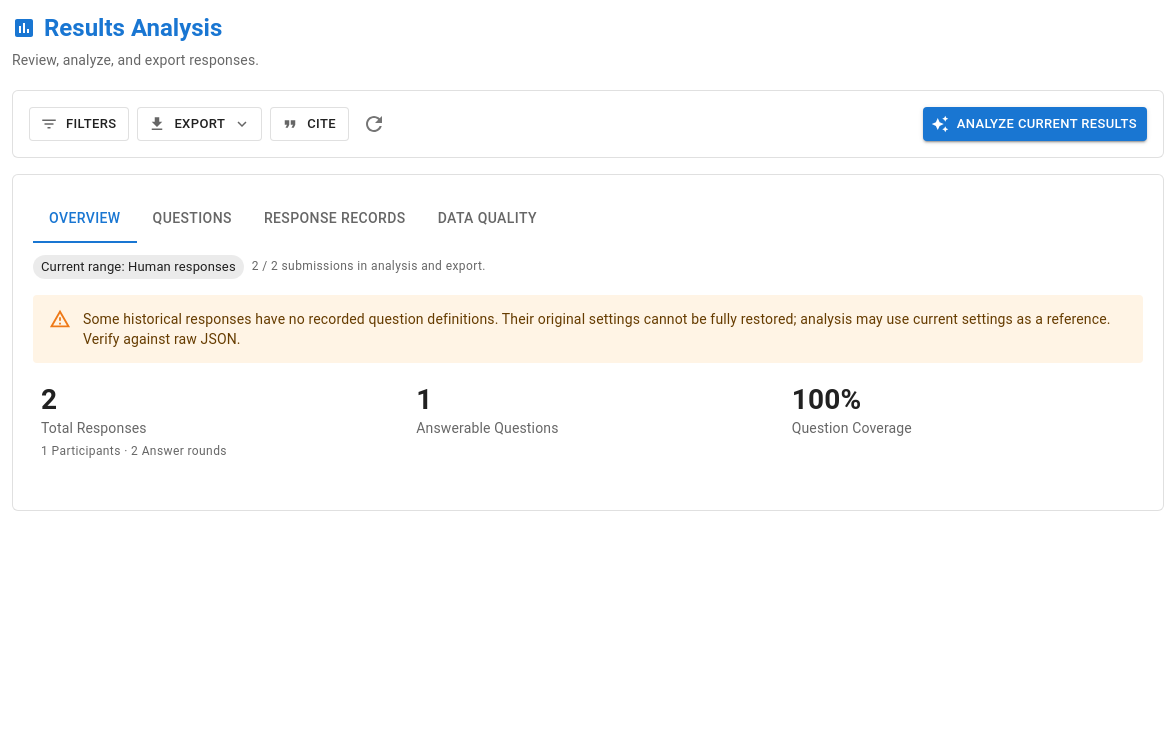
Test: platform admin reads the selected project through the admin API without delete controls
Expected: the text "2 / 2 submissions in analysis and export." is shown, [252,257,486,277]
Click the tab "Response records": (335, 219) [248,195,422,243]
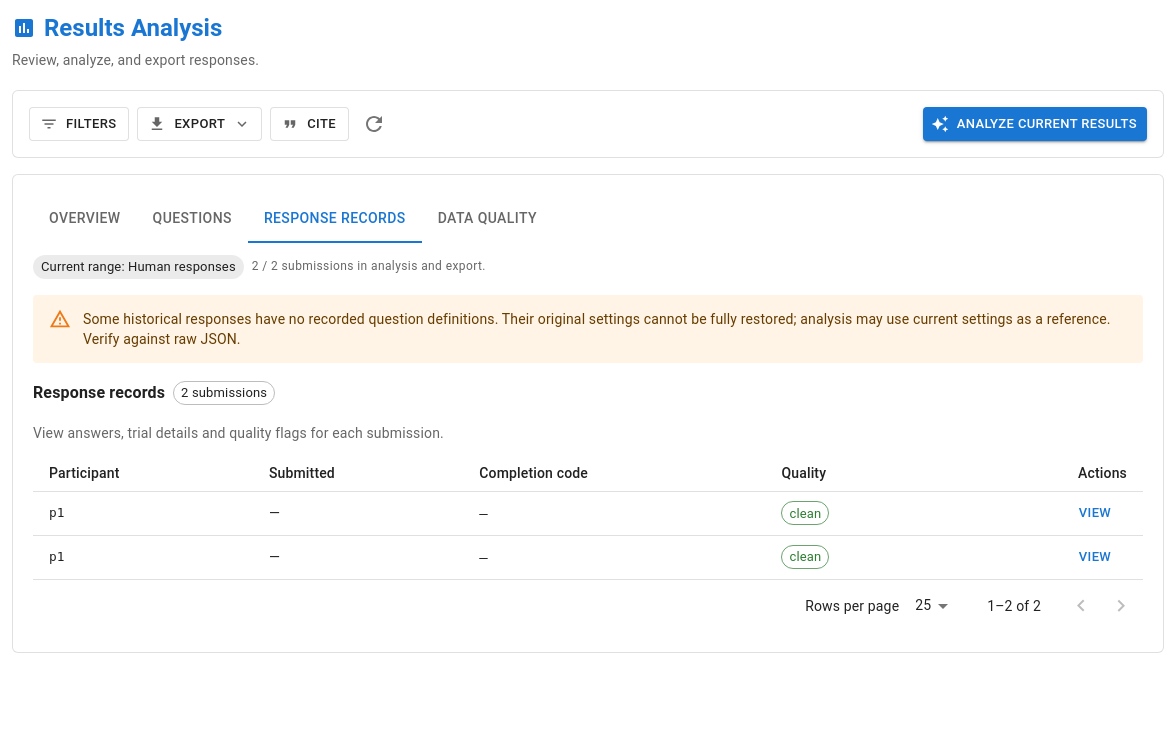
Expected: the number of buttons "View" is 2, [1063,498,1127,529]; [1063,542,1127,573]
